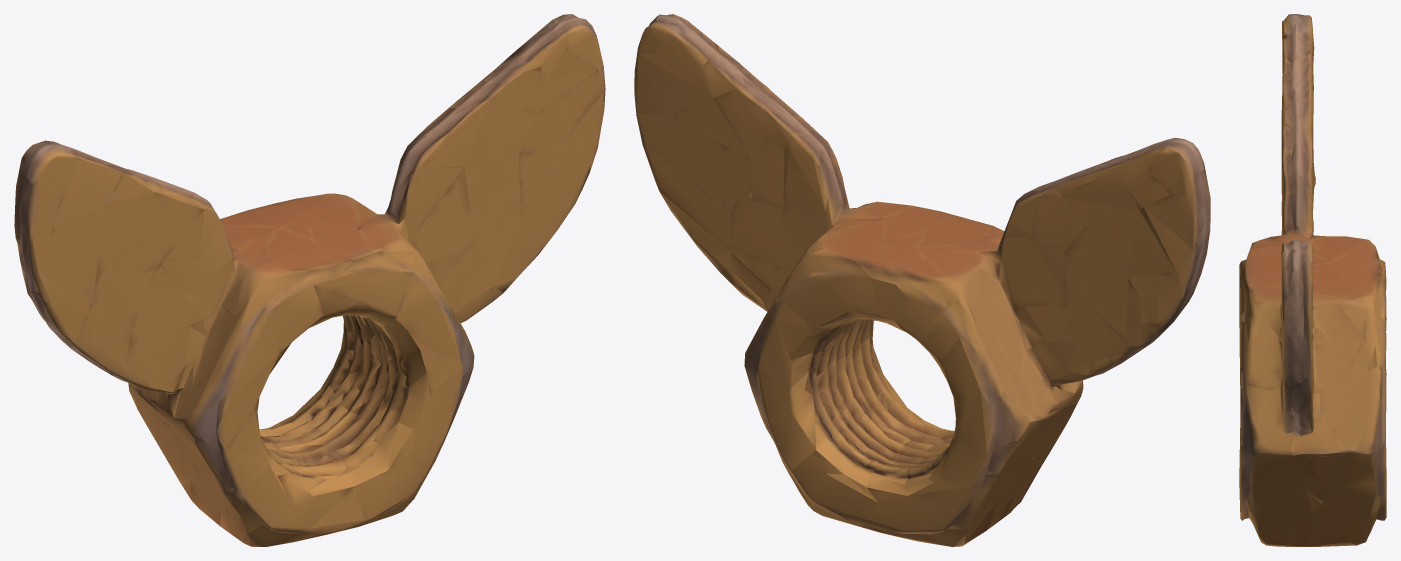
File: token_bolt_v1.glb
The picture shows the model from 3 angles, left to right: view 1: azimuth 30°, elevation 25°; view 2: azimuth 150°, elevation 25°; view 3: azimuth 270°, elevation 25°; orthographic projection. The views are drawn at different scales.
Parts seen in each view (by area): view 1: mesh_node; view 2: mesh_node; view 3: mesh_node.
Part boxes in pixels (box(x1,y1,x2,y2)): mesh_node: box(14, 14, 605, 546); mesh_node: box(634, 14, 1210, 546); mesh_node: box(1239, 14, 1386, 546).
Bounding box in the file's own units: 0.86 × 0.62 × 0.2147.
Materials: 1 (1 with a texture image).
